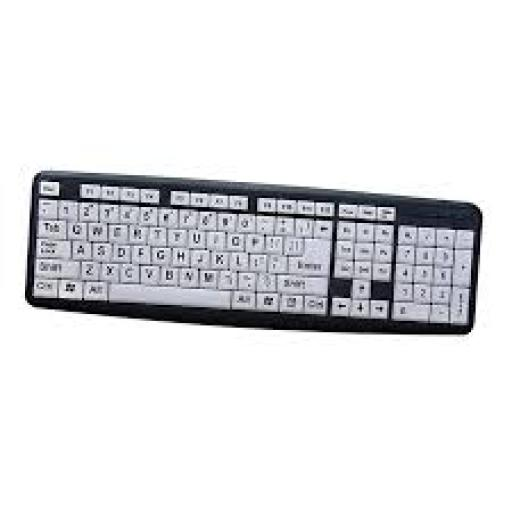KEYBOARD-2: (25, 171, 480, 332)
